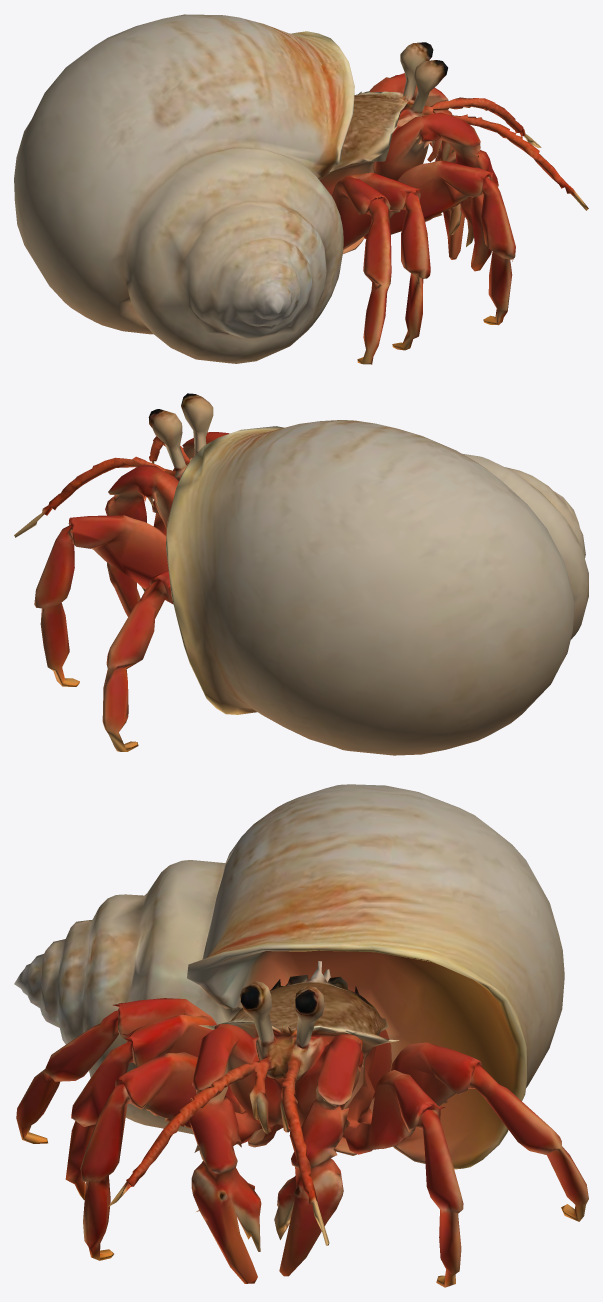
Rendered from hermitcrab.glb.
The picture shows the model from 3 angles, top to bottom: view 1: azimuth 30°, elevation 25°; view 2: azimuth 150°, elevation 25°; view 3: azimuth 270°, elevation 25°; orthographic projection. The views are drawn at different scales.
Visible parts, largest first — view 1: tripo_node_655d46ab-82ab-456b-9df4-98b492598db8; view 2: tripo_node_655d46ab-82ab-456b-9df4-98b492598db8; view 3: tripo_node_655d46ab-82ab-456b-9df4-98b492598db8.
Boxes of the visible parts, box(x1,y1,x2,y2) form: tripo_node_655d46ab-82ab-456b-9df4-98b492598db8: box(14, 14, 588, 364); tripo_node_655d46ab-82ab-456b-9df4-98b492598db8: box(14, 393, 588, 755); tripo_node_655d46ab-82ab-456b-9df4-98b492598db8: box(14, 784, 588, 1287).
Size of the model in its own units: 0.9974 by 0.5009 by 0.7943.
Materials: 1 (1 with a texture image).
